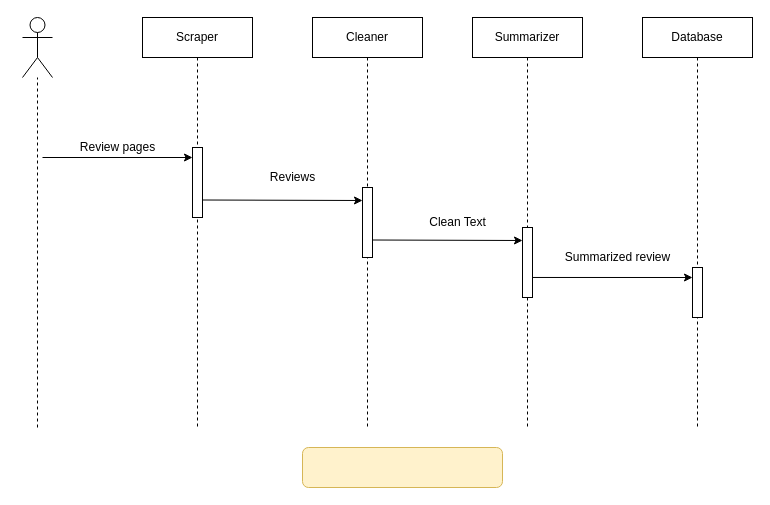
Some shapes in this 770 by 505 pixel diagram are drawn without their labels. The shapes that lost their labels are listed below. From the top down, each one's box as (x1, y1, x2, y2) in pixels, then its label:
(22, 16, 52, 78): System
(302, 446, 502, 488): Sequence diagram of sub-system 2
